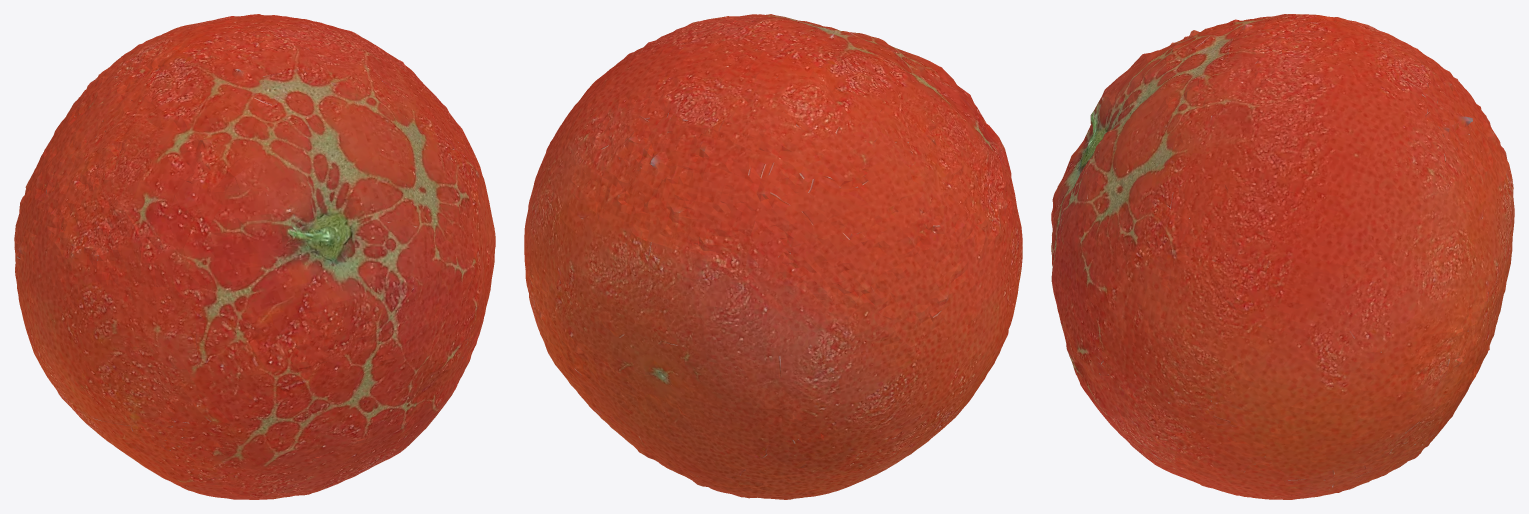
The model's file is grapefruit-2.glb.
The picture shows the model from 3 angles, left to right: view 1: azimuth 30°, elevation 25°; view 2: azimuth 150°, elevation 25°; view 3: azimuth 270°, elevation 25°; orthographic projection.
Visible parts, largest first — view 1: Object_2; view 2: Object_2; view 3: Object_2.
Boxes of the visible parts, x1,y1,x2,y2 form: Object_2: (14,14,495,499); Object_2: (524,14,1022,499); Object_2: (1051,14,1514,499).
Size of the model in its own units: 2.45 by 2.41 by 2.29.
1 material, 1 textured.
